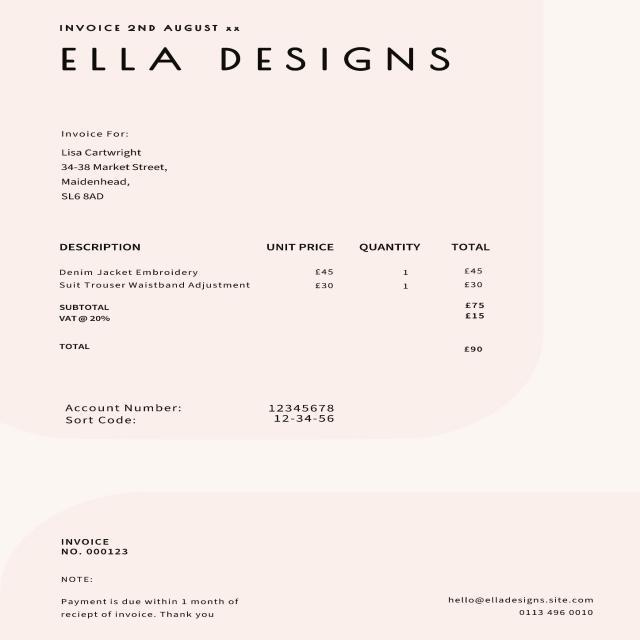ROI: (53, 303, 496, 357), (56, 239, 492, 291), (55, 44, 453, 76), (54, 574, 250, 620), (55, 129, 172, 204), (64, 402, 336, 432), (445, 594, 595, 618), (56, 22, 244, 36), (59, 537, 135, 557)
